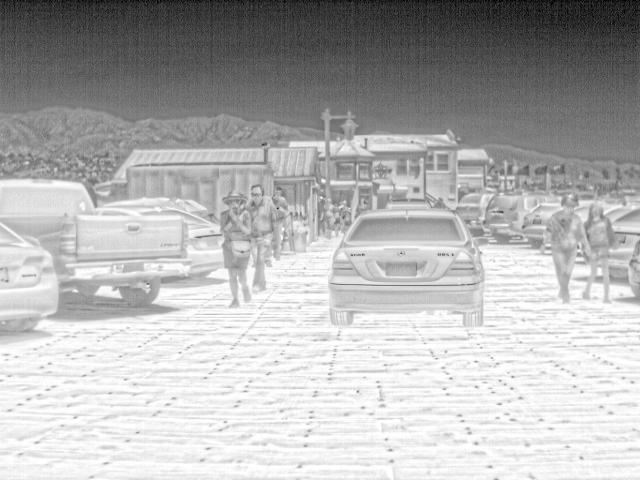car: (1, 176, 194, 308), (326, 207, 486, 329), (95, 202, 224, 282), (4, 220, 60, 336), (484, 192, 552, 245), (596, 206, 640, 287), (452, 190, 498, 234), (521, 200, 563, 246), (603, 202, 639, 222), (386, 196, 433, 209)
person: (543, 195, 594, 306), (219, 187, 255, 306), (581, 202, 613, 303), (246, 185, 275, 294), (318, 197, 336, 237), (331, 210, 343, 237)
